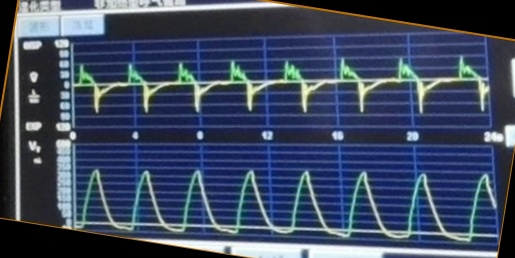Accumulation Flow: (76, 55, 488, 117)
Volume: (78, 166, 495, 243)
